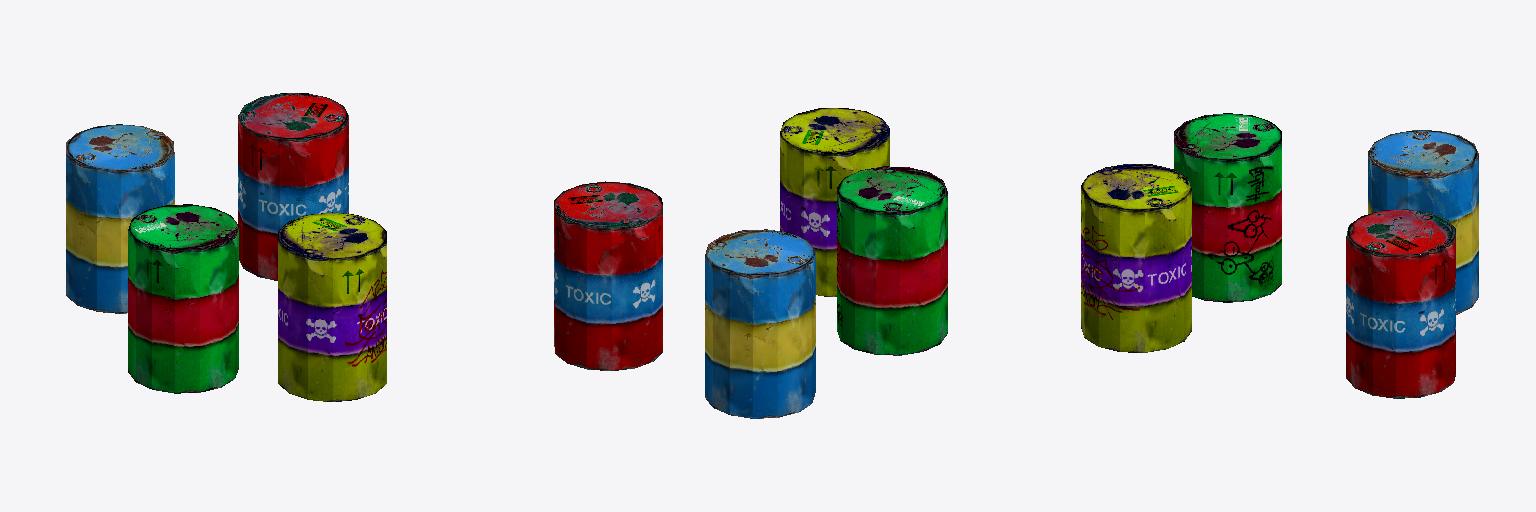
3 renders of one model, left to right at view 1: azimuth 30°, elevation 25°; view 2: azimuth 150°, elevation 25°; view 3: azimuth 270°, elevation 25°, orthographic.
Parts seen in each view (by area): view 1: group1_barrel_01, group1_barrel_02, group1_barrel_03, barrel_04_group1; view 2: barrel_04_group1, group1_barrel_01, group1_barrel_03, group1_barrel_02; view 3: group1_barrel_02, group1_barrel_03, group1_barrel_01, barrel_04_group1.
Part boxes in pixels (x1,y1,x2,y2): group1_barrel_01: (128, 204, 238, 393); group1_barrel_02: (278, 212, 386, 401); group1_barrel_03: (238, 93, 348, 280); barrel_04_group1: (66, 124, 174, 313); barrel_04_group1: (705, 229, 815, 418); group1_barrel_01: (837, 166, 947, 355); group1_barrel_03: (554, 181, 662, 370); group1_barrel_02: (780, 108, 889, 296); group1_barrel_02: (1081, 164, 1191, 352); group1_barrel_03: (1346, 209, 1455, 398); group1_barrel_01: (1174, 113, 1281, 302); barrel_04_group1: (1368, 130, 1478, 314).
Bounding box in the file's own units: 7.87 × 3.68 × 9.27.
1 materials, 1 textured.